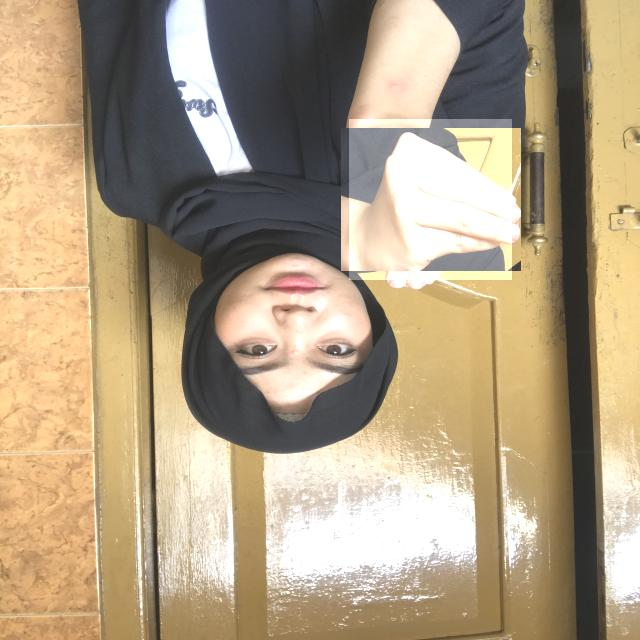kapan: (349, 119, 512, 280)
